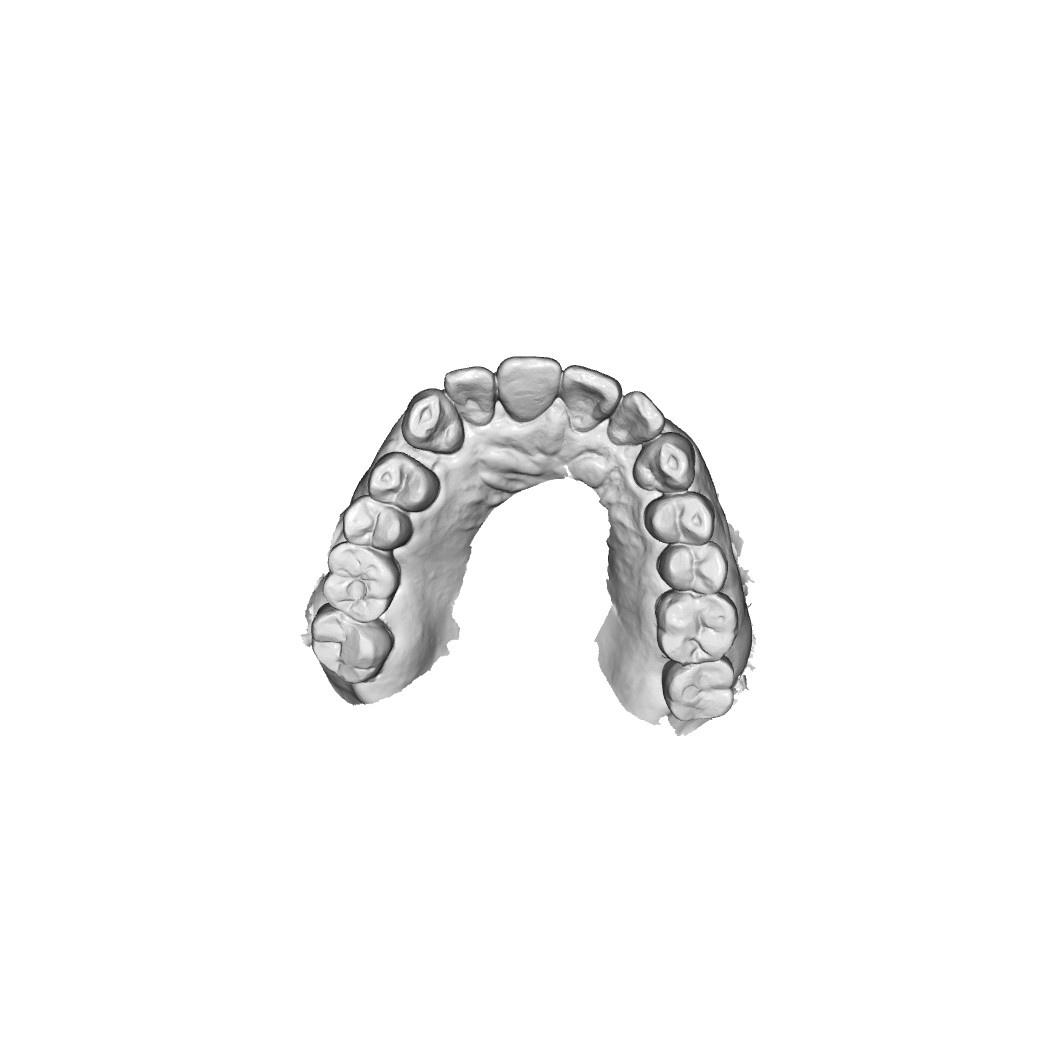canine: (399, 386, 467, 457), (631, 429, 698, 495)
incisor: (554, 359, 622, 434), (494, 355, 564, 423), (605, 389, 668, 447), (442, 364, 496, 428)
molar: (307, 604, 395, 685), (323, 540, 400, 624), (651, 590, 737, 662), (657, 656, 736, 724)
premolar: (365, 451, 440, 515), (338, 495, 414, 556), (641, 489, 715, 549), (653, 539, 727, 596)
